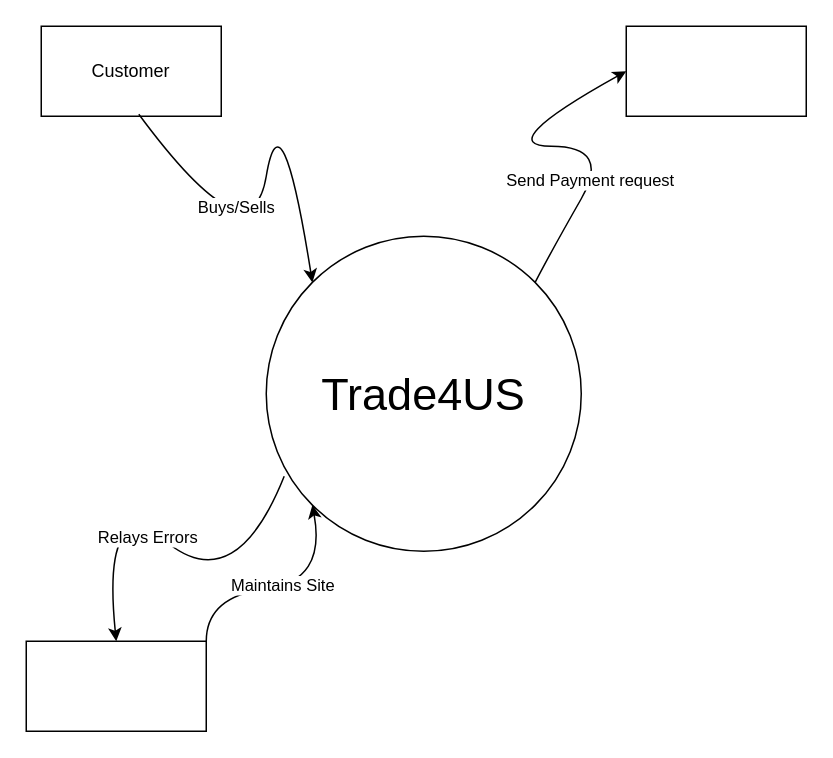
Some shapes in this 833 by 758 pixel diagram are drawn without their labels. The shapes that lost their labels are listed below. From the top down, each one's centre as x and y in pixels, then its label:
point 715,70: Payment
point 115,685: Admin
